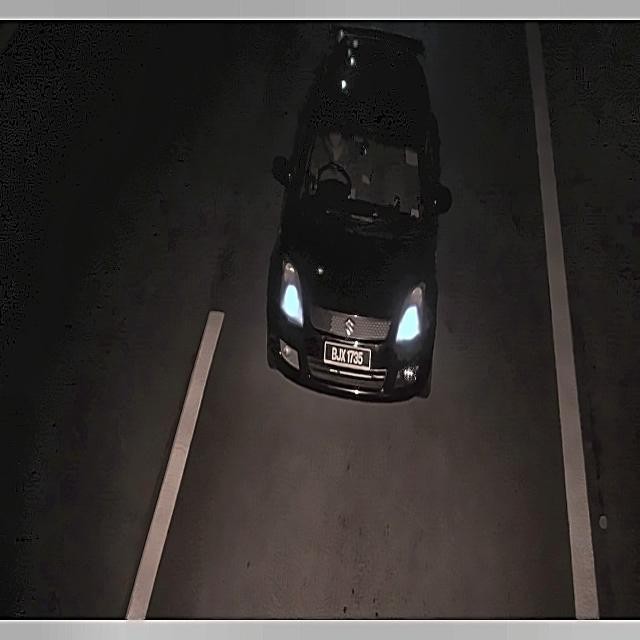car: (320, 332, 378, 378)
